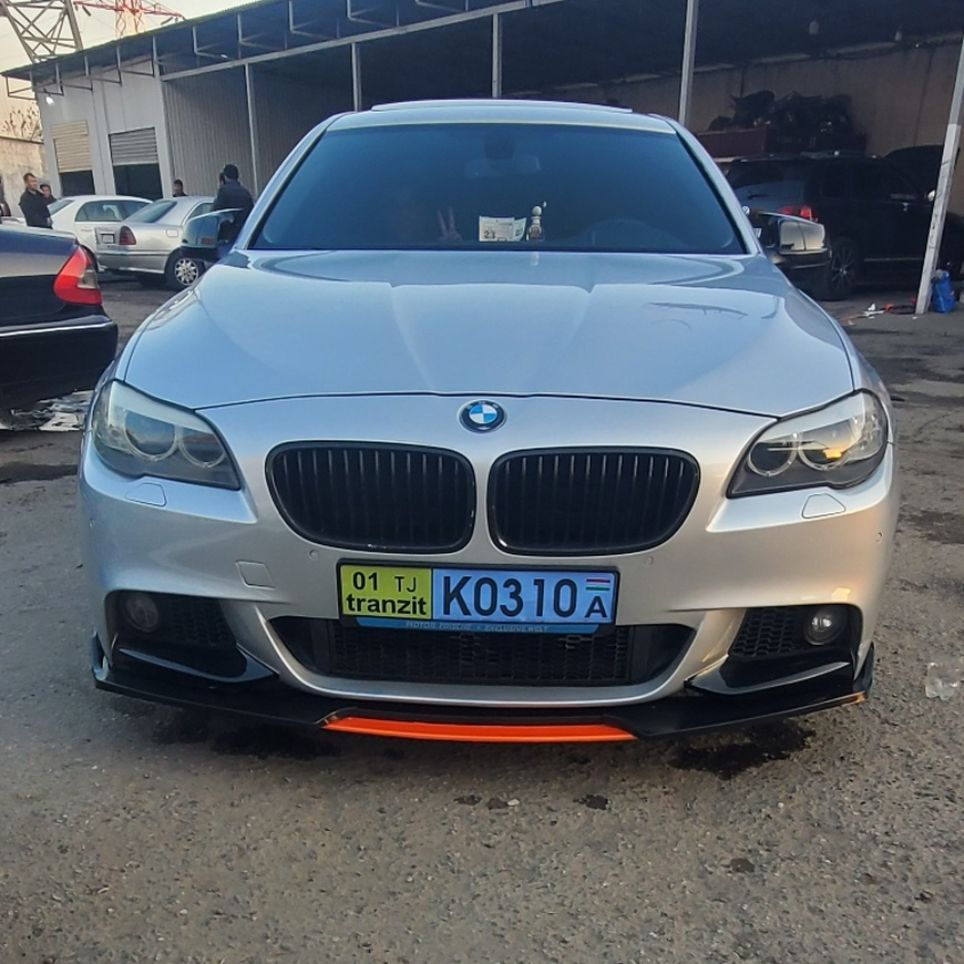license plate: (334, 561, 620, 637)
truck: (65, 90, 906, 760)
